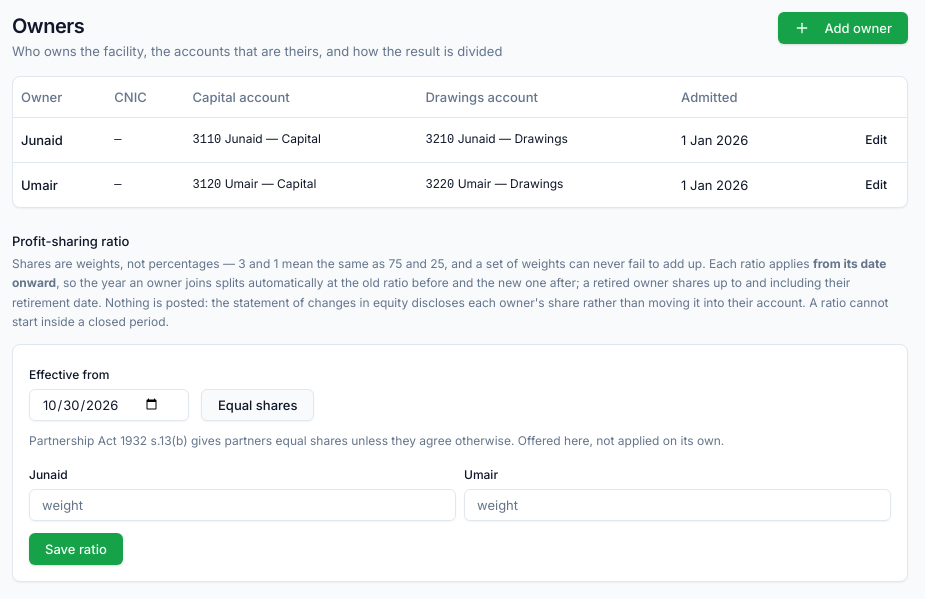
Test: PartnersPage — an owner is a record, with both their accounts › offers equal shares rather than assuming them
Expected: the text "3110" is shown, [192,133,221,147]
Expected: the text "gives partners equal shares unless they agree otherwise" is shown, [29,432,724,448]
Click the button "Equal shares": (258, 404) [201,388,314,420]
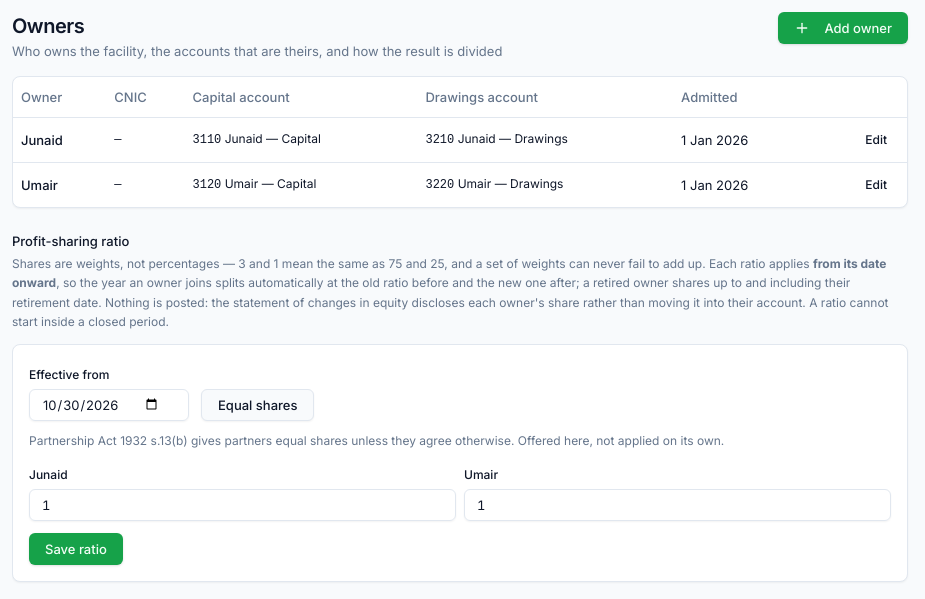
Result: the number field labelled "Junaid" holds "1" at [29,488,456,520]
Result: the number field labelled "Umair" holds "1" at [464,488,891,520]
